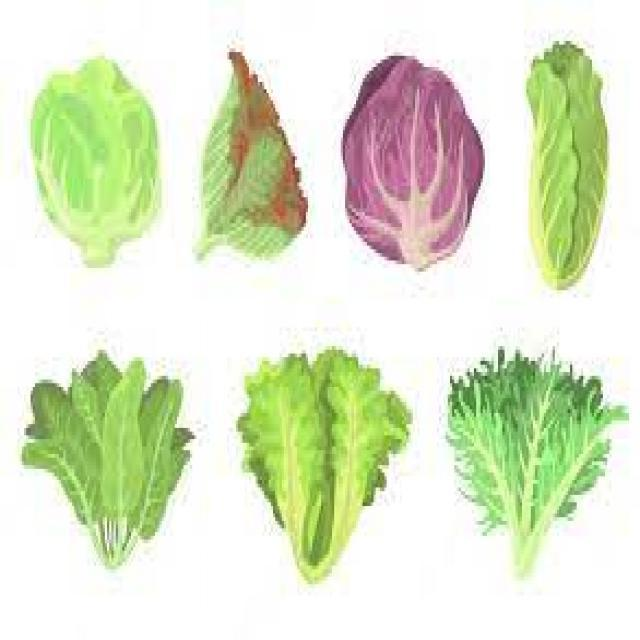Lettuce: (444, 346, 630, 578), (236, 345, 413, 584), (21, 345, 195, 566), (340, 54, 484, 271), (29, 52, 160, 266), (192, 47, 308, 262), (526, 41, 610, 290)
